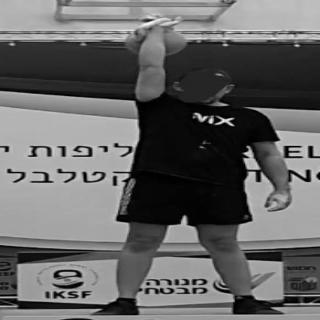kettlebell: (123, 15, 196, 59)
